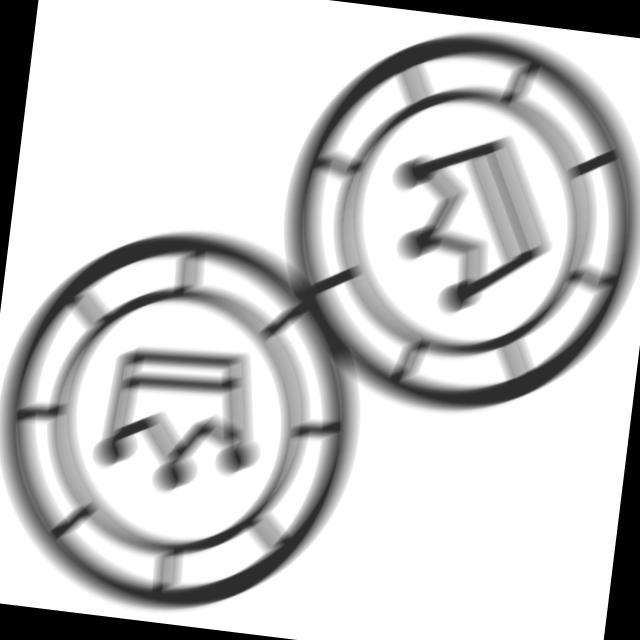coin: (1, 197, 396, 638), (254, 6, 640, 441)
